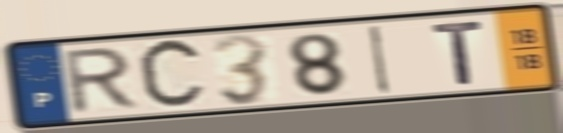3: (210, 31, 276, 109)
8: (284, 31, 353, 97)
C: (135, 34, 210, 115)
I: (367, 22, 393, 97)
R: (62, 44, 143, 117)
T: (429, 18, 488, 87)
